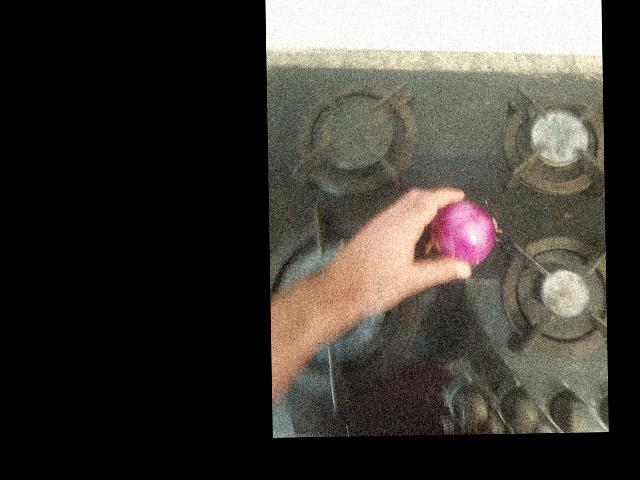onion: (478, 98, 550, 158)
